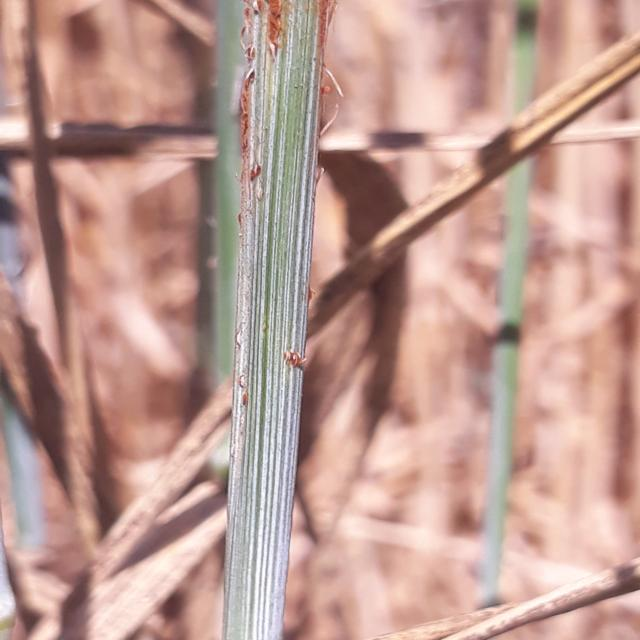black_stem_rust: (206, 0, 388, 640)
